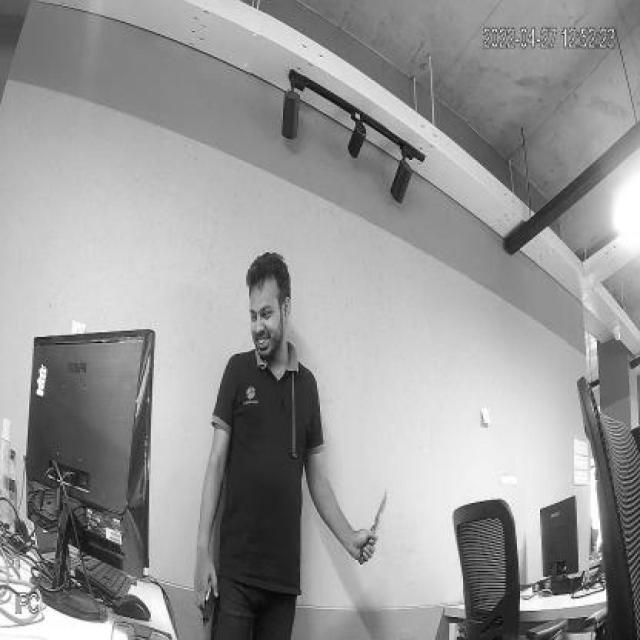weapon: (195, 562, 219, 630)
